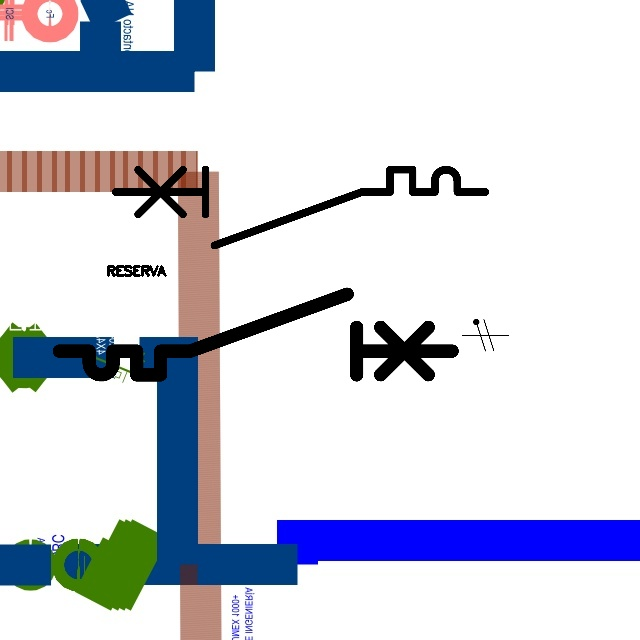interruptor_termomagnetico: (49, 284, 462, 385), (106, 160, 495, 255)
